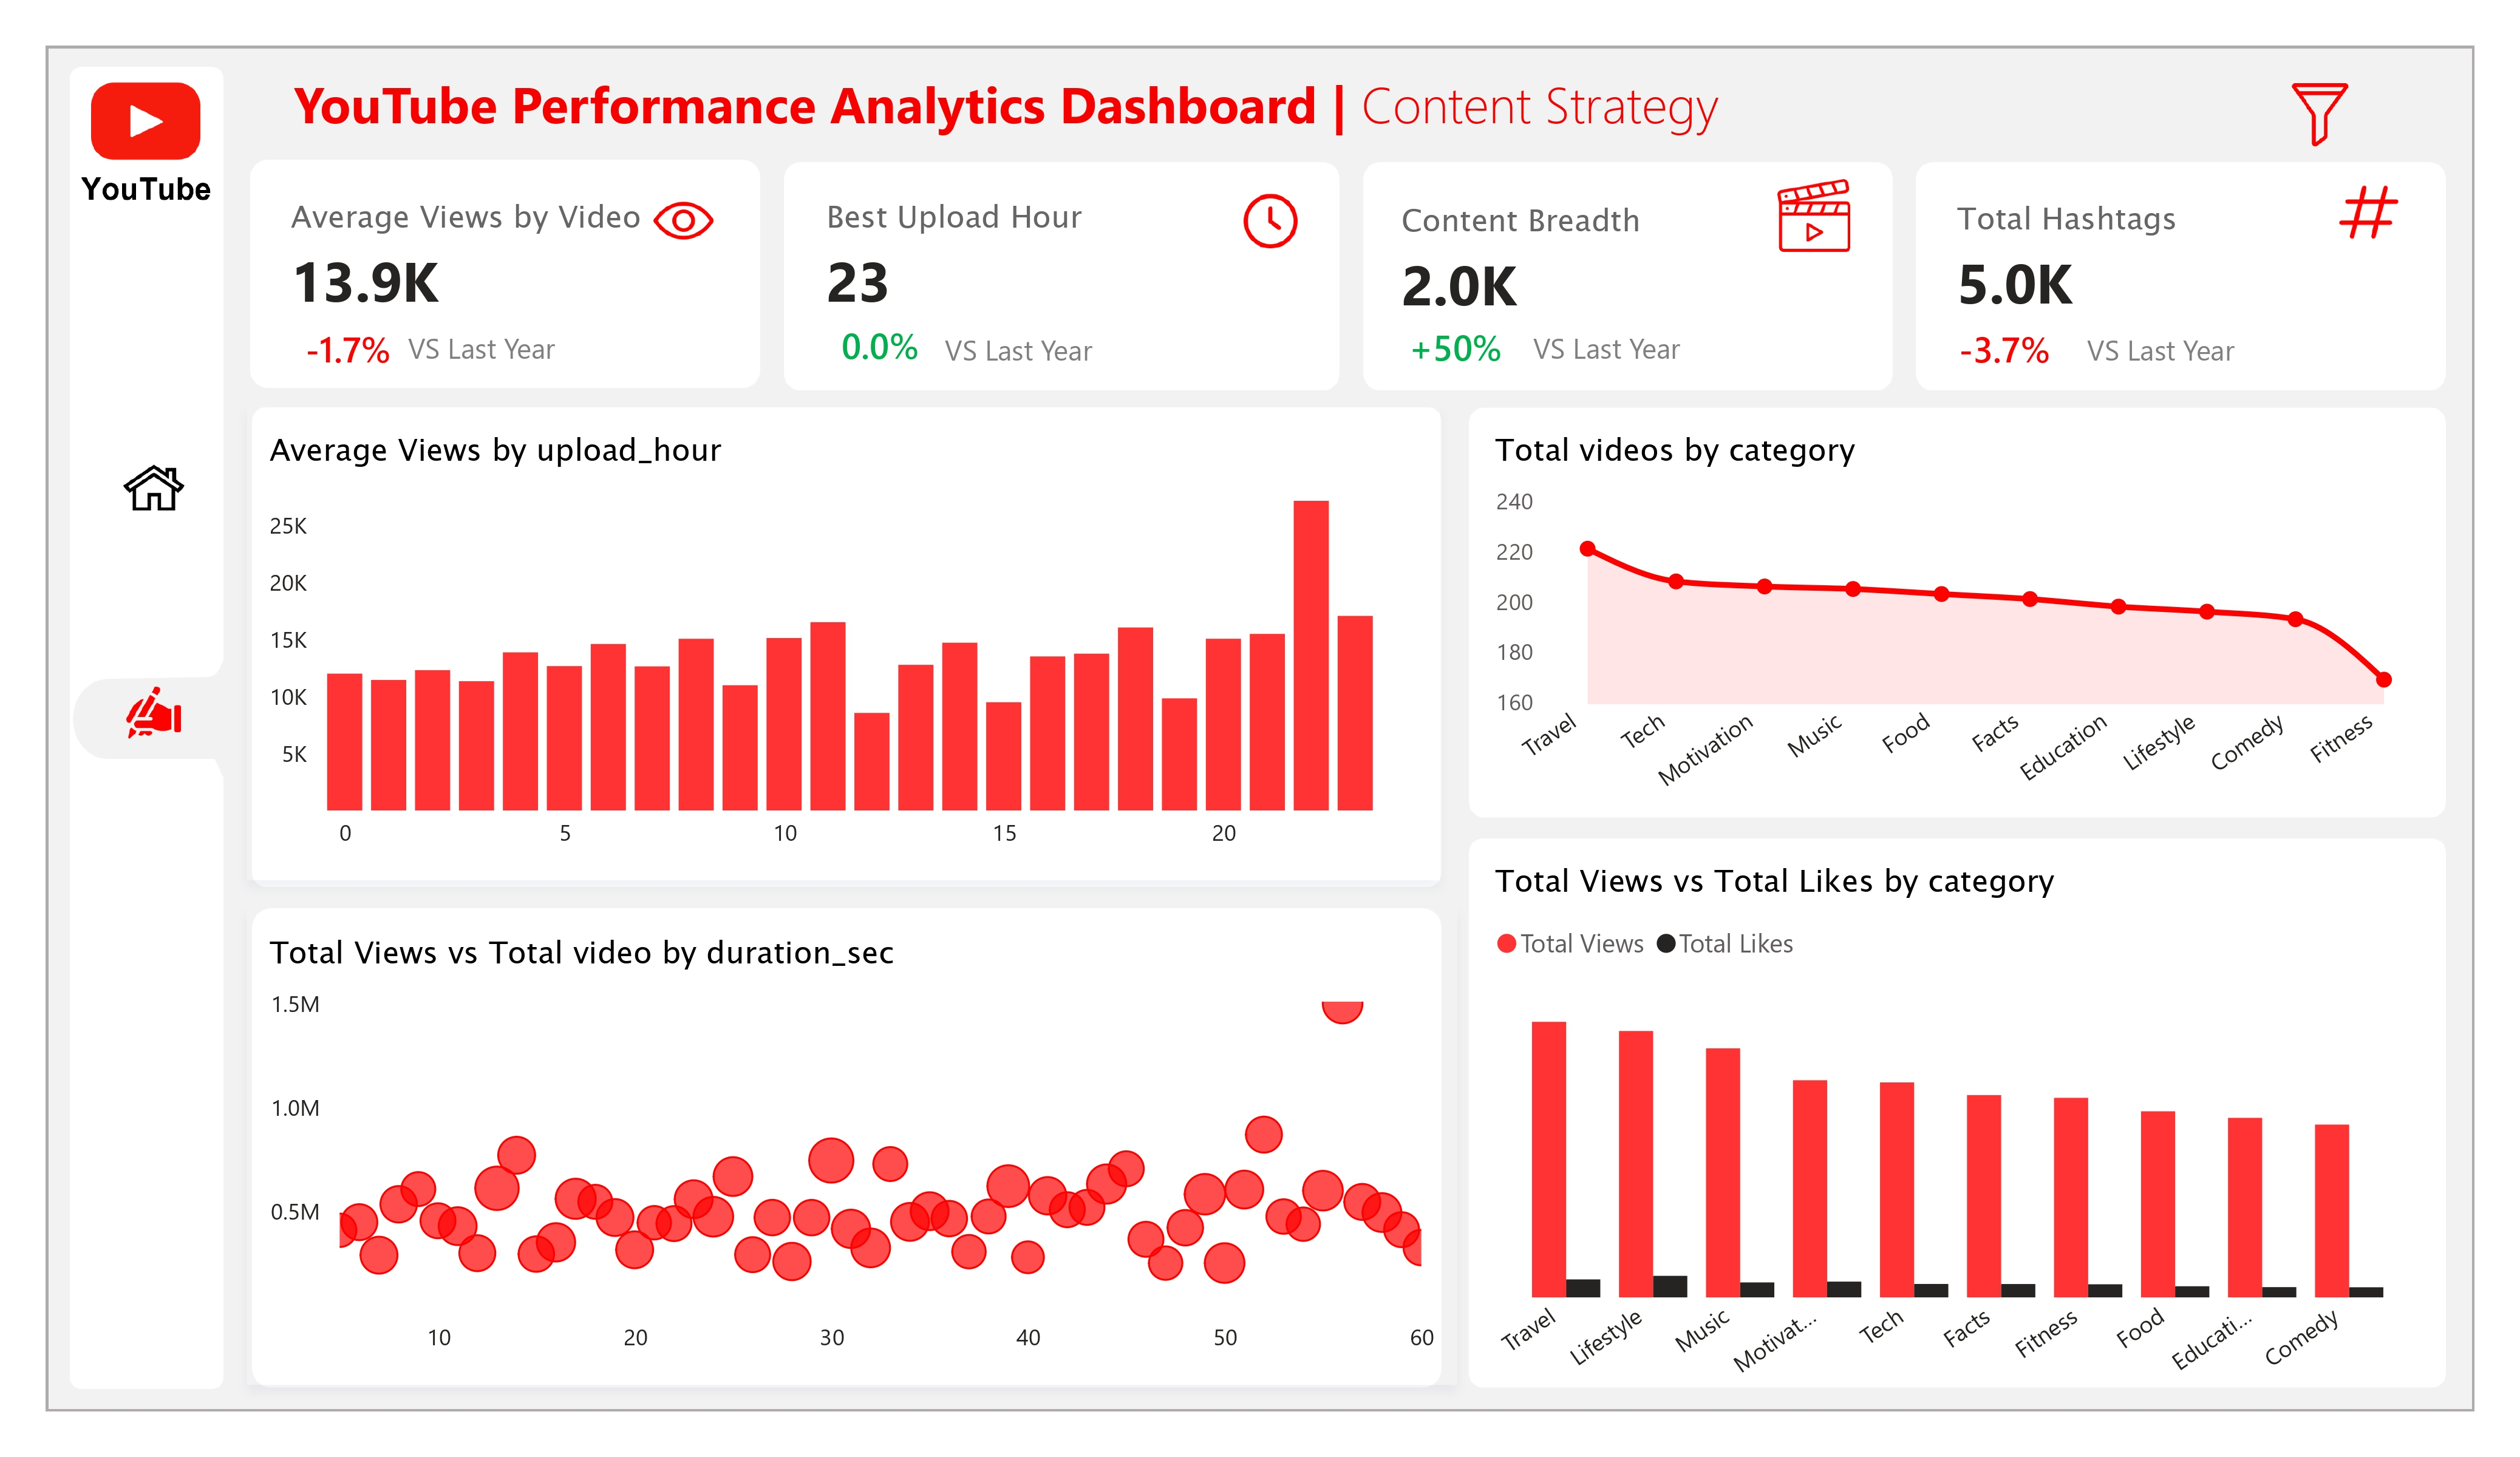

The page's visual inventory and layout, read from the dashboard file:
{"tool":"powerbi","page":{"name":"Content Strategy Dashboard","canvas":[1280,720],"ordinal":1},"visuals":[{"type":"cardVisual","title":"Total Videos ","fields":{"Data":["DAX Measures.Average Views by Video"]},"box":[108,62,268,117],"z":0},{"type":"cardVisual","title":"Total Shares ","fields":{"Data":["DAX Measures.Best Upload Hour"]},"box":[389.7,59.8,293.1,120.7],"z":1000},{"type":"cardVisual","title":"Total Likes ","fields":{"Data":["DAX Measures.Content Breadth"]},"box":[693,63,281,118],"z":2000},{"type":"cardVisual","title":"Engagement Rate","fields":{"Data":["DAX Measures.Total Hashtags"]},"box":[986,62,278,118],"z":3000},{"type":"clusteredColumnChart","title":"Average Views  by upload_hour","fields":{"Category":["Fact Table.upload_hour"],"Y":["DAX Measures.Average Views by Video"]},"box":[106,189,629,251],"z":4000},{"type":"cardVisual","fields":{"Data":["DAX Measures.Total Video % Change"]},"box":[693.1,134.5,100,44.8],"z":5000},{"type":"textbox","box":[779.3,143.7,89.7,33.3],"z":6000},{"type":"cardVisual","fields":{"Data":["DAX Measures.Best Upload Hour % Change"]},"box":[389.7,133.3,100,44.8],"z":7000},{"type":"cardVisual","fields":{"Data":["DAX Measures.Avg Views per Video % Change"]},"box":[106,135.2,107.2,45.1],"z":8000},{"type":"cardVisual","fields":{"Data":["DAX Measures.Hashtag Efficiency % Change"]},"box":[974.7,135.2,115.7,45.1],"z":9000},{"type":"textbox","box":[1071.3,144.8,89.7,33.3],"z":10000},{"type":"textbox","box":[469,144.8,89.7,33.3],"z":11000},{"type":"textbox","box":[186.2,143.7,89.7,33.3],"z":12000},{"type":"textbox","box":[126.4,6.9,789.7,46],"z":13000},{"type":"scatterChart","title":"Total Views vs Total video by duration_sec","fields":{"Y":["DAX Measures.Total Views"],"X":["Fact Table.duration_sec"],"Size":["CountNonNull(Fact Table.video_id)"]},"box":[105.7,454,637.9,251.7],"z":14000},{"type":"clusteredColumnChart","title":"Total Views vs Total Likes by category","fields":{"Category":["Dimension Table.category"],"Y":["DAX Measures.Total Views","DAX Measures.Total Likes"]},"box":[751.7,416.1,511.5,303.4],"z":15000},{"type":"lineChart","title":"Total videos by category","fields":{"Category":["Dimension Table.category"],"Y":["CountNonNull(Fact Table.video_id)"]},"box":[752,189,511,227],"z":16000},{"type":"image","box":[1181.6,17.2,33.3,39.1],"z":17000},{"type":"actionButton","box":[15.6,212.2,82.6,40.2],"z":19000}]}

Visuals, with their boxes on the page's 1280x720 design canvas (x1, y1, x2, y2). These are canvas units, not pixel positions in the 2520x1457 screenshot, which may show the page scaled, cropped or inside an application window:
"Total Videos " cardVisual: [108,62,376,179]
"Total Shares " cardVisual: [390,60,683,180]
"Total Likes " cardVisual: [693,63,974,181]
"Engagement Rate" cardVisual: [986,62,1264,180]
"Average Views  by upload_hour" clusteredColumnChart: [106,189,735,440]
cardVisual - DAX Measures.Total Video % Change: [693,134,793,179]
textbox: [779,144,869,177]
cardVisual - DAX Measures.Best Upload Hour % Change: [390,133,490,178]
cardVisual - DAX Measures.Avg Views per Video % Change: [106,135,213,180]
cardVisual - DAX Measures.Hashtag Efficiency % Change: [975,135,1090,180]
textbox: [1071,145,1161,178]
textbox: [469,145,559,178]
textbox: [186,144,276,177]
textbox: [126,7,916,53]
"Total Views vs Total video by duration_sec" scatterChart: [106,454,744,706]
"Total Views vs Total Likes by category" clusteredColumnChart: [752,416,1263,720]
"Total videos by category" lineChart: [752,189,1263,416]
image: [1182,17,1215,56]
actionButton: [16,212,98,252]
